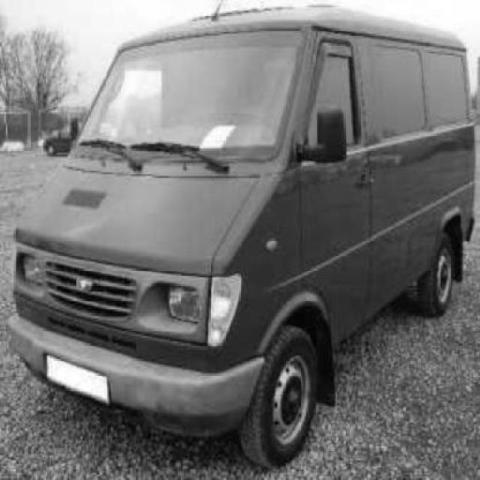van: (12, 6, 472, 463)
